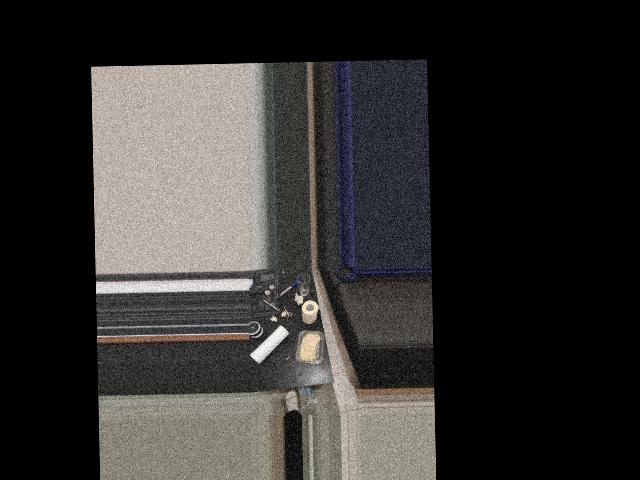cheese: (293, 329, 326, 367)
